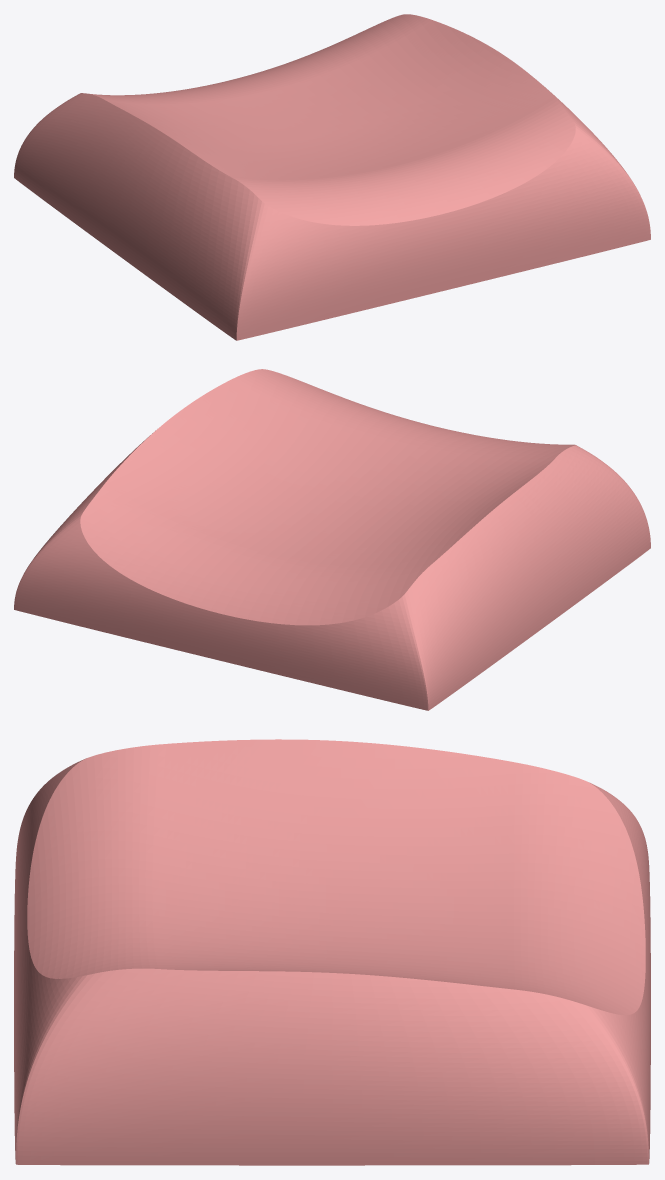
The model's file is MX-Chicago-Steno-R3.gltf.
3 views of the same model, one above another, from view 1: azimuth 30°, elevation 25°; view 2: azimuth 150°, elevation 25°; view 3: azimuth 270°, elevation 25° (orthographic). The views are drawn at different scales.
Parts seen in each view (by area): view 1: object 1; view 2: object 1; view 3: object 1.
Part boxes in pixels (x1,y1,x2,y2): object 1: (14, 14, 650, 340); object 1: (14, 369, 650, 710); object 1: (14, 739, 650, 1165).
Bounding box in the file's own units: 1.73 × 0.5717 × 1.61.
